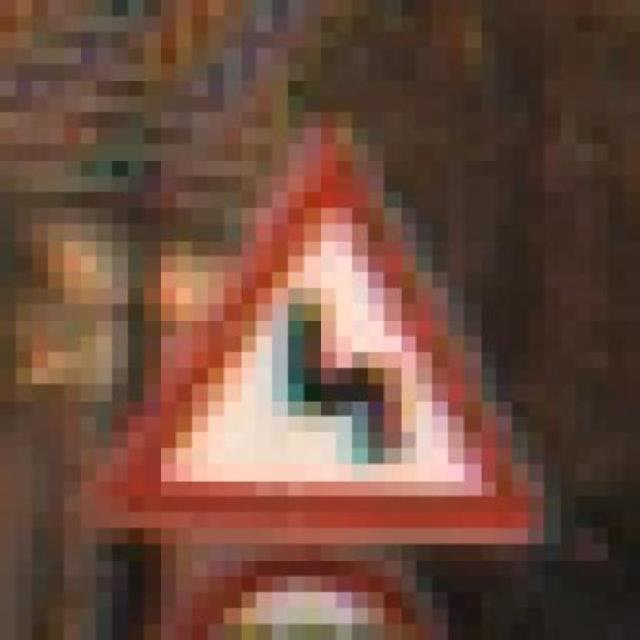Left Zig Zag Traffic: (89, 77, 553, 574)
